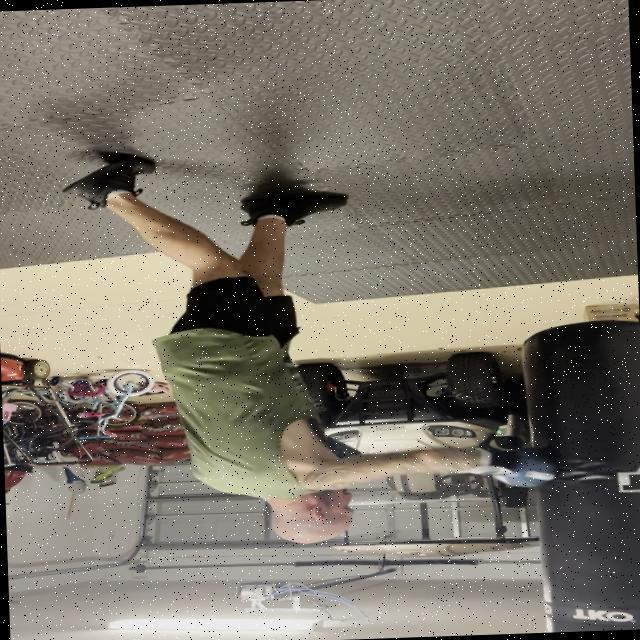bag: (533, 309, 640, 632)
cross: (172, 398, 560, 598)
